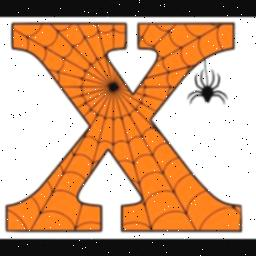x: (1, 20, 245, 236)
